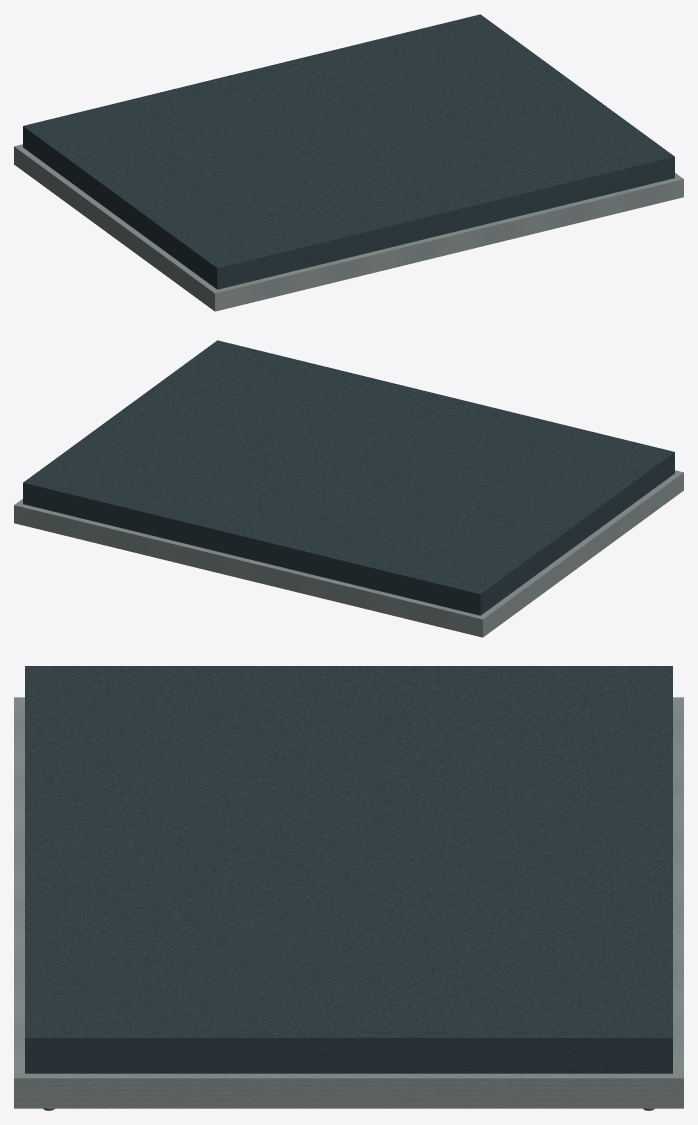
The model's file is PROJECT_Z_ES26_Store_Notice_Board.glb.
The picture shows the model from 3 angles, top to bottom: view 1: azimuth 30°, elevation 25°; view 2: azimuth 150°, elevation 25°; view 3: azimuth 270°, elevation 25°; orthographic projection. The views are drawn at different scales.
Visible parts, largest first — view 1: Store_Notice_Board__CORK_BACKBOARD, Store_Notice_Board__FRAME_TOP, Store_Notice_Board__FRAME_LEFT; view 2: Store_Notice_Board__CORK_BACKBOARD, Store_Notice_Board__FRAME_BOTTOM, Store_Notice_Board__FRAME_LEFT; view 3: Store_Notice_Board__CORK_BACKBOARD, Store_Notice_Board__FRAME_RIGHT, Store_Notice_Board__FRAME_BOTTOM, Store_Notice_Board__FRAME_TOP.
Part boxes in pixels (box(x1,y1,x2,y2)): Store_Notice_Board__CORK_BACKBOARD: box(23, 14, 674, 289); Store_Notice_Board__FRAME_TOP: box(203, 173, 683, 311); Store_Notice_Board__FRAME_LEFT: box(25, 153, 208, 302); Store_Notice_Board__CORK_BACKBOARD: box(23, 340, 674, 615); Store_Notice_Board__FRAME_BOTTOM: box(14, 499, 494, 637); Store_Notice_Board__FRAME_LEFT: box(489, 479, 672, 628); Store_Notice_Board__CORK_BACKBOARD: box(25, 666, 672, 1073); Store_Notice_Board__FRAME_RIGHT: box(52, 1073, 645, 1108); Store_Notice_Board__FRAME_BOTTOM: box(645, 697, 683, 1108); Store_Notice_Board__FRAME_TOP: box(14, 697, 52, 1108).
Bounding box in the file's own units: 1.03 × 0.1185 × 0.765.
Materials: 2 (2 with a texture image).
